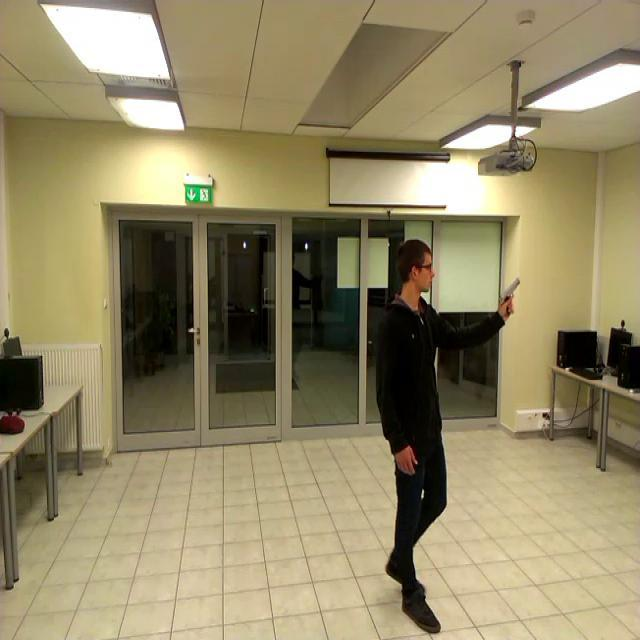Gun: (504, 276, 522, 314)
